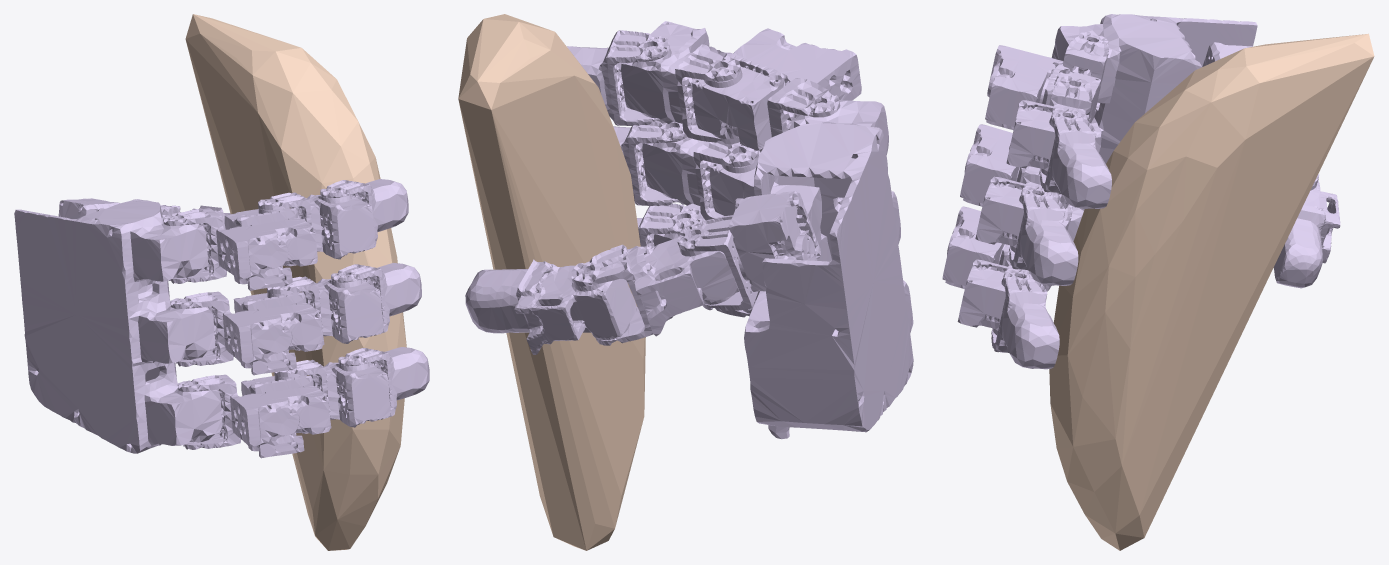
The picture shows the model from 3 angles, left to right: view 1: azimuth 30°, elevation 25°; view 2: azimuth 150°, elevation 25°; view 3: azimuth 270°, elevation 25°; orthographic projection. The views are drawn at different scales.
Parts seen in each view (by area): view 1: LEAP_hand, world; view 2: LEAP_hand, world; view 3: world, LEAP_hand.
Part boxes in pixels (x1,y1,x2,y2): LEAP_hand: (14, 179, 429, 458); world: (185, 14, 406, 550); LEAP_hand: (465, 21, 913, 439); world: (458, 14, 645, 550); world: (1049, 33, 1374, 550); LEAP_hand: (942, 14, 1340, 369).
Bounding box in the file's own units: 0.1939 × 0.2677 × 0.211.
